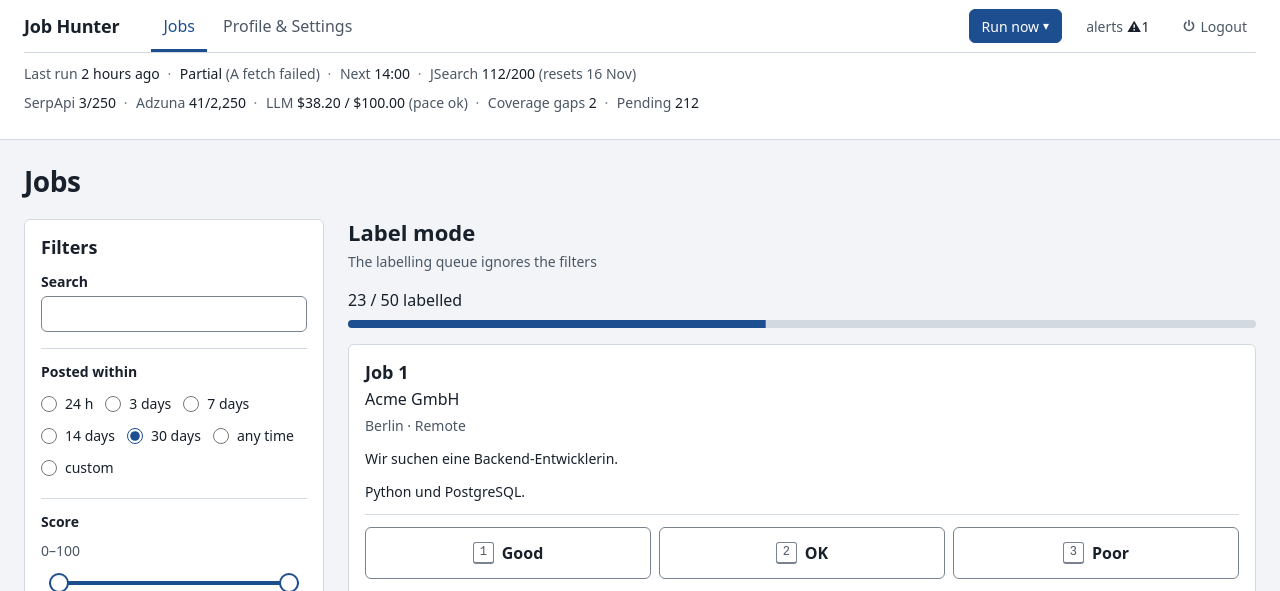
it: LabelMode › no score or band appears before Reveal
Step 1. Click the button "2 OK" → (802, 553), box [659,527,945,579]
(page scrolled)
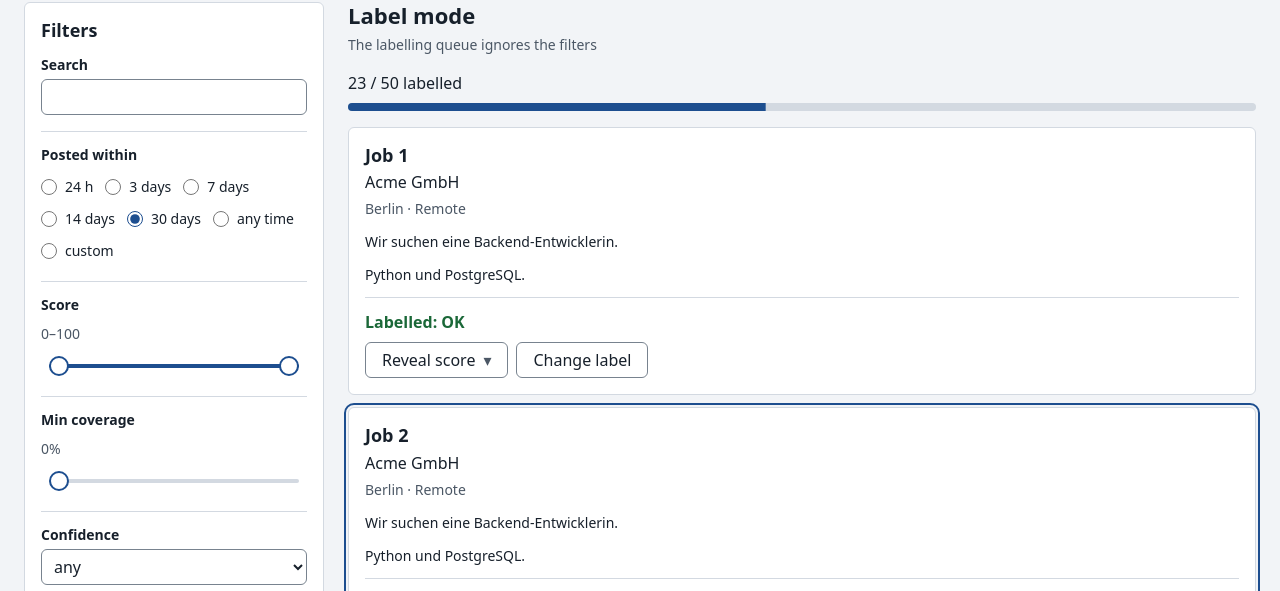
Now the button "Reveal score▾" is shown, box [365,342,508,378]
